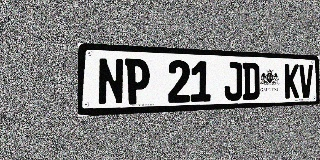1: (190, 61, 210, 102)
2: (168, 60, 190, 103)
D: (243, 62, 259, 100)
J: (224, 62, 242, 101)
K: (285, 64, 299, 99)
N: (97, 57, 124, 106)
P: (125, 58, 150, 105)
V: (299, 64, 313, 98)
